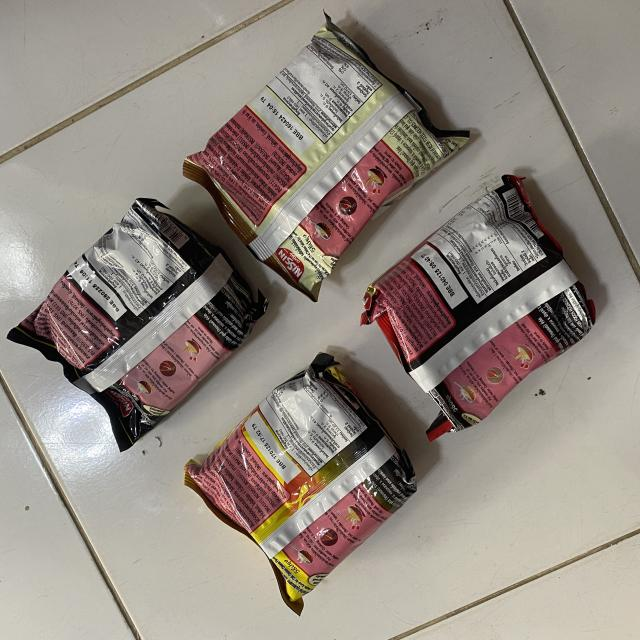plastik: (182, 16, 469, 300), (8, 198, 266, 451), (361, 175, 595, 441), (185, 352, 416, 615)
